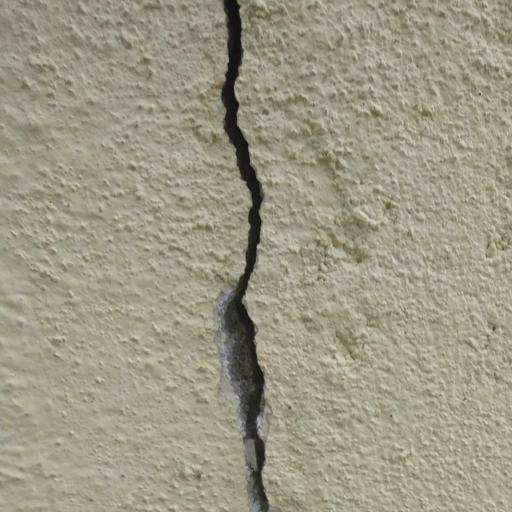major_crack: (186, 1, 284, 512)
